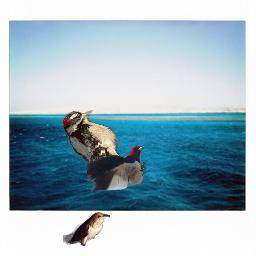Cuckoo: (63, 212, 110, 246)
Woodpecker: (62, 110, 132, 182), (87, 143, 150, 192)
